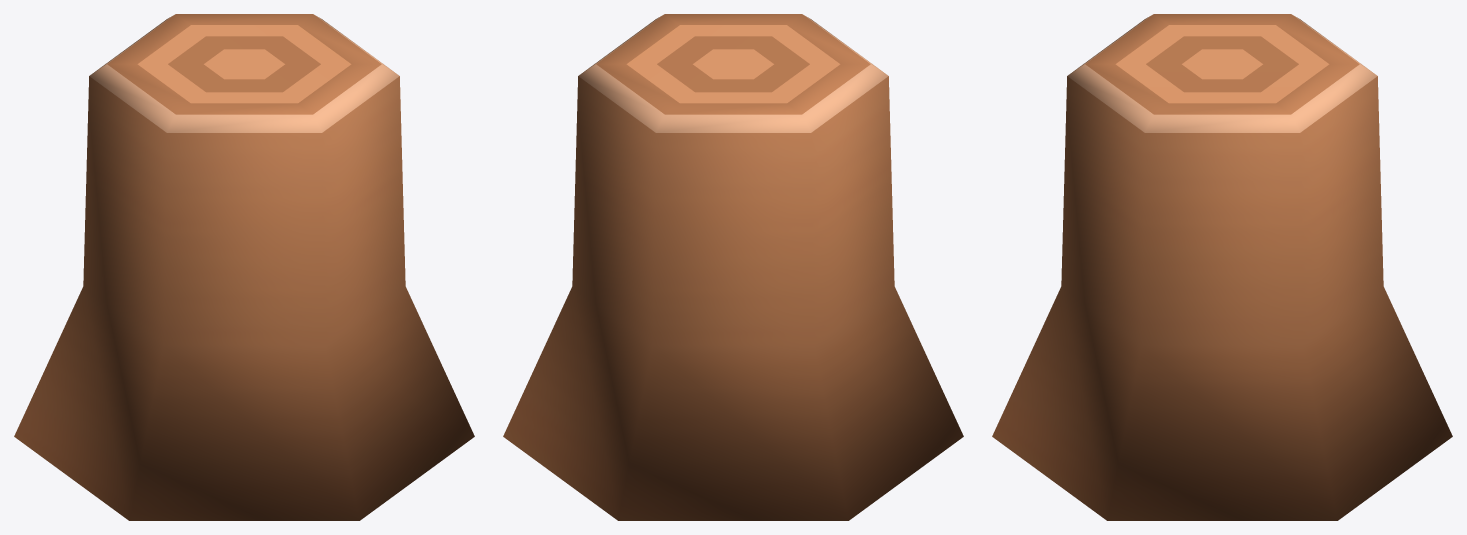
The model's file is Trunk.glb.
3 renders of one model, left to right at view 1: azimuth 30°, elevation 25°; view 2: azimuth 150°, elevation 25°; view 3: azimuth 270°, elevation 25°, orthographic.
Parts seen in each view (by area): view 1: Trunk; view 2: Trunk; view 3: Trunk.
Boxes of the visible parts, box(x1,y1,x2,y2) form: Trunk: box(14, 14, 474, 520); Trunk: box(503, 14, 963, 520); Trunk: box(992, 14, 1452, 520).
Bounding box in the file's own units: 0.4503 × 0.4635 × 0.52.
Materials: 1 (1 with a texture image).
